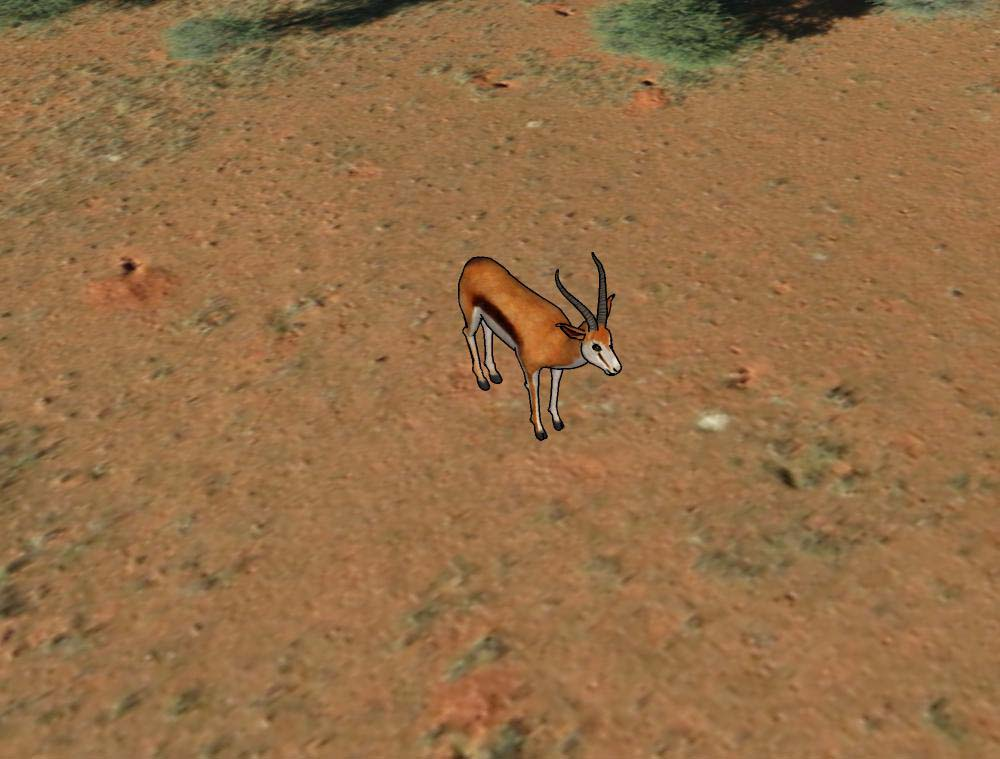springbok: (453, 244, 627, 437)
